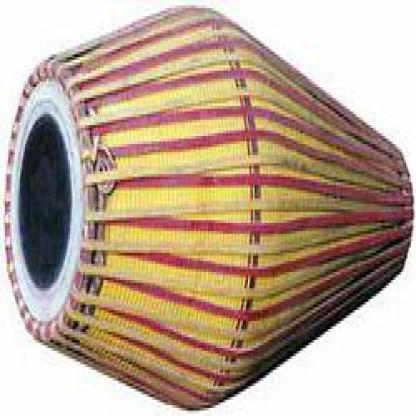Mridangam: (2, 1, 416, 415)
